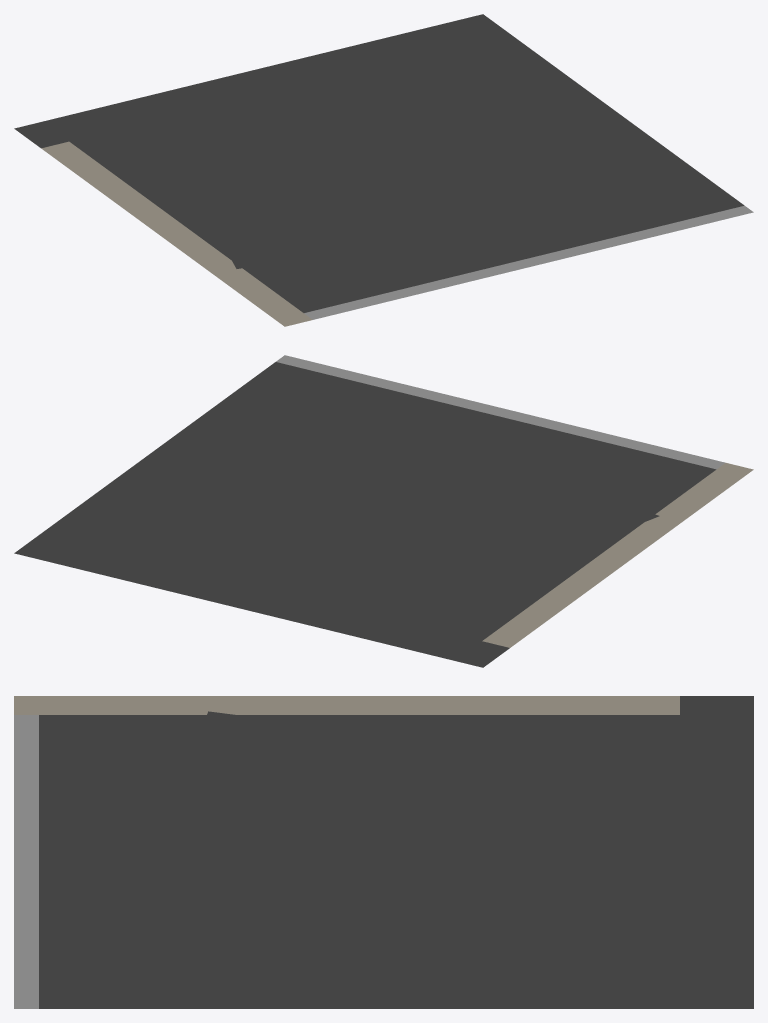
File: SM_Envr_Road_Road_Parking_04.fbx
3 views of the same model, one above another, from view 1: azimuth 30°, elevation 25°; view 2: azimuth 150°, elevation 25°; view 3: azimuth 270°, elevation 25° (orthographic). The views are drawn at different scales.
Visible parts, largest first — view 1: SM_Envr_Road_Road_Parking_04; view 2: SM_Envr_Road_Road_Parking_04; view 3: SM_Envr_Road_Road_Parking_04.
Part boxes in pixels (left/top/right/bottom): SM_Envr_Road_Road_Parking_04: left=14, top=14, right=753, bottom=326; SM_Envr_Road_Road_Parking_04: left=14, top=355, right=753, bottom=667; SM_Envr_Road_Road_Parking_04: left=14, top=696, right=753, bottom=1008.
Bounding box in the file's own units: 500 × 0 × 500.
